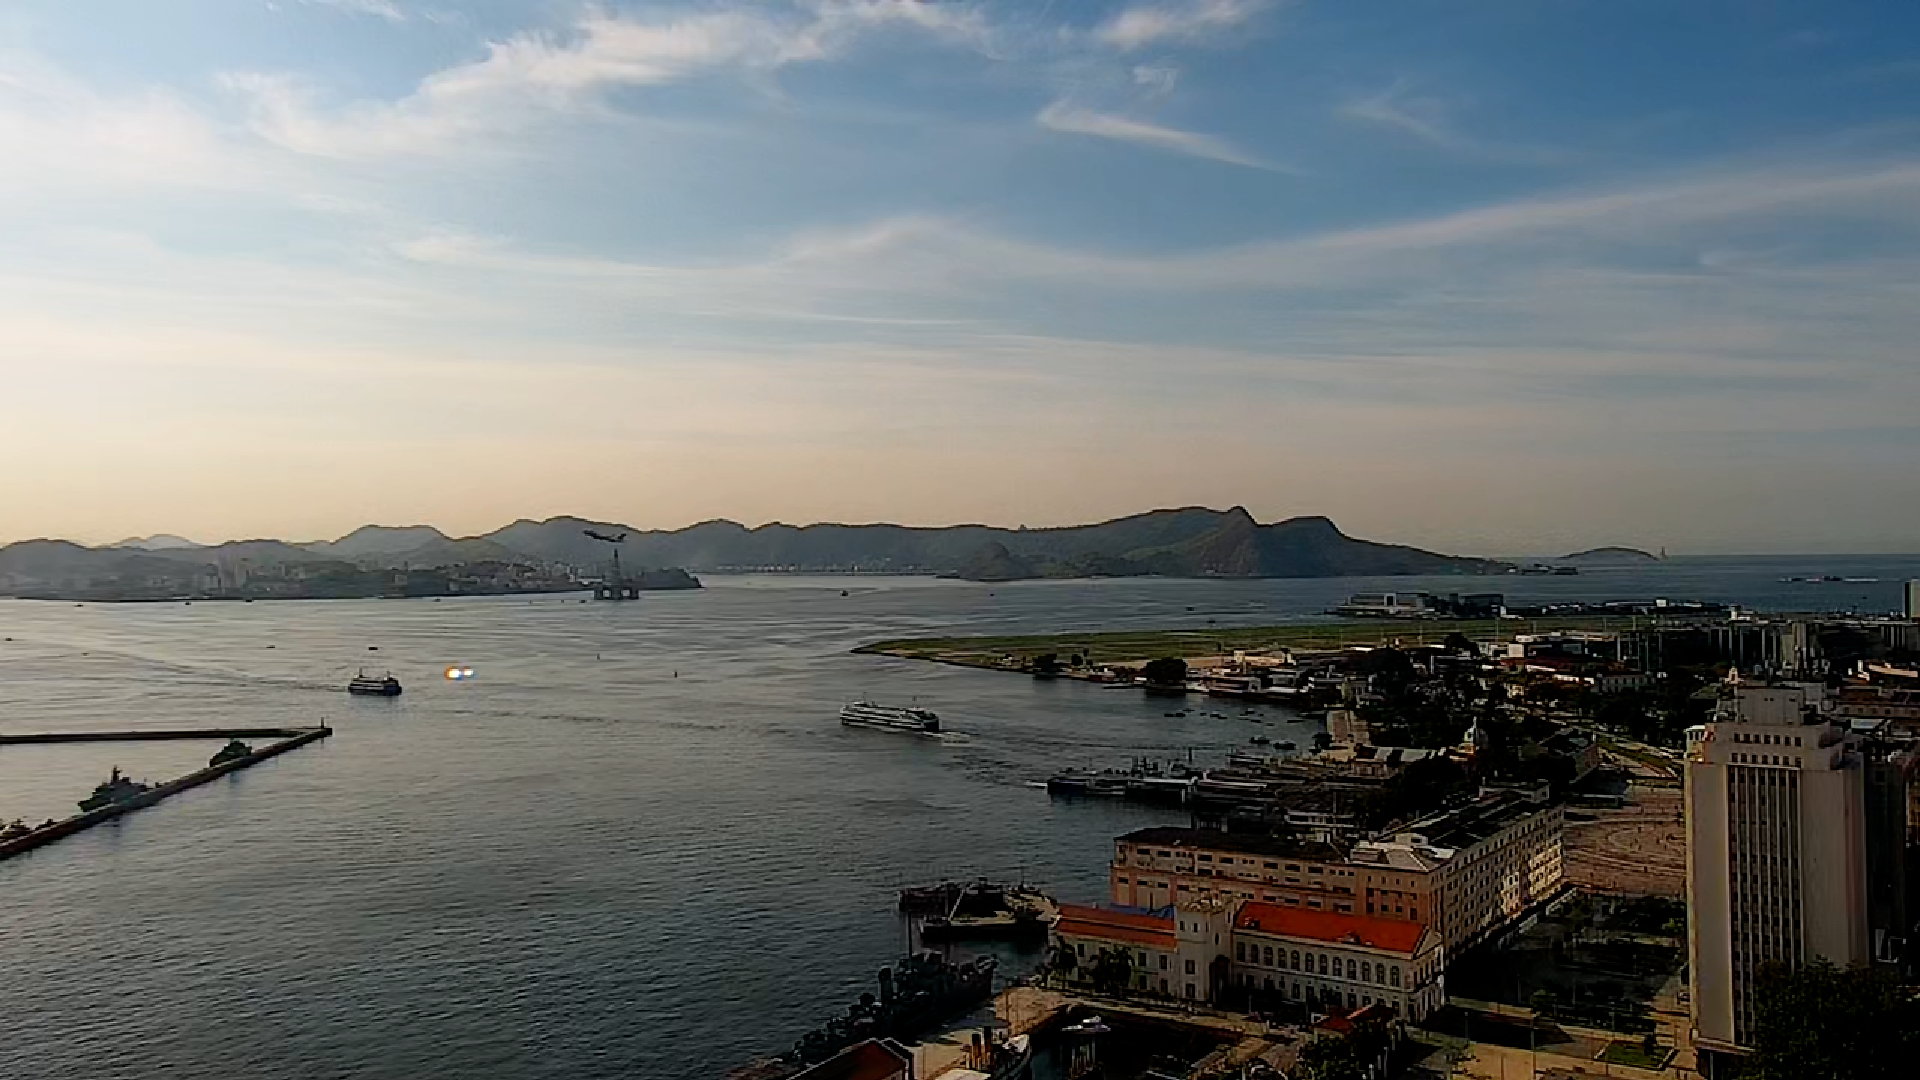Ship0: (78, 767, 149, 814), (206, 738, 255, 766)
Ship1: (840, 692, 943, 738), (342, 669, 404, 698)
